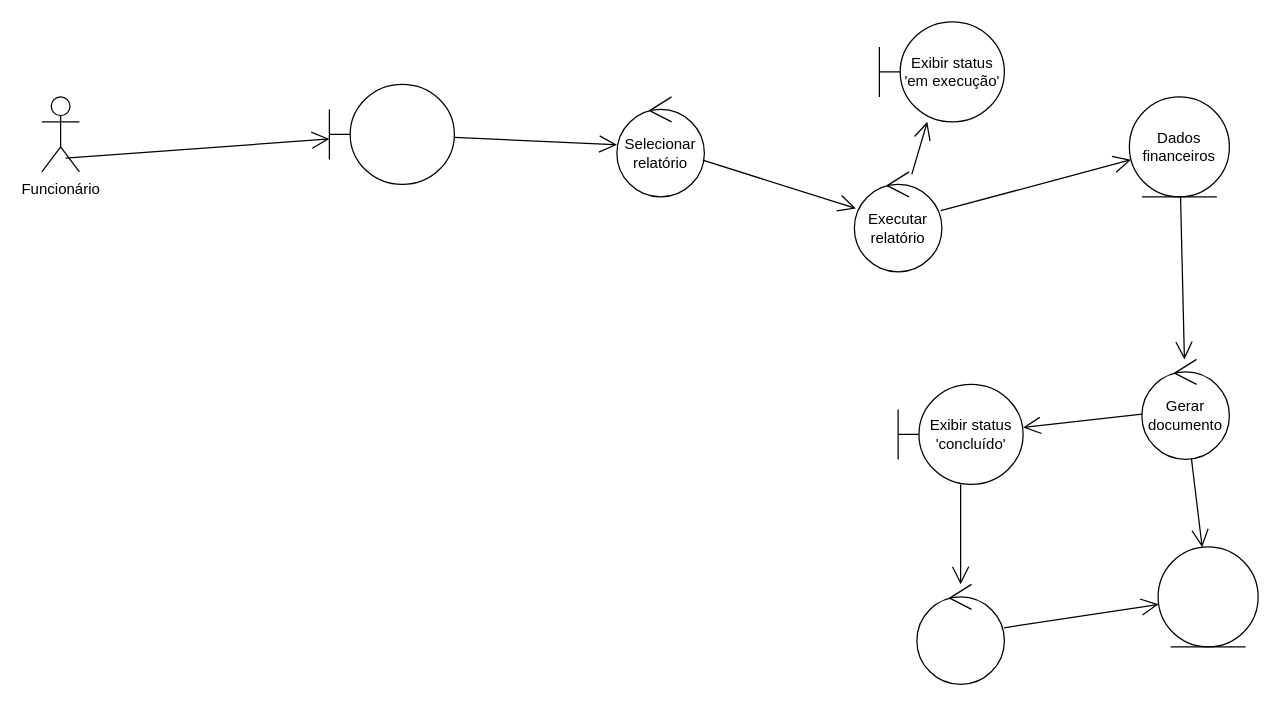
This 1280x706 diagram has some shape labels left out. Each missing label, with the centre of its shape:
Baixar relatório: point 960,633
Dados de relatórios: point 1207,596
Exibir relatórios disponíveis: point 391,133
